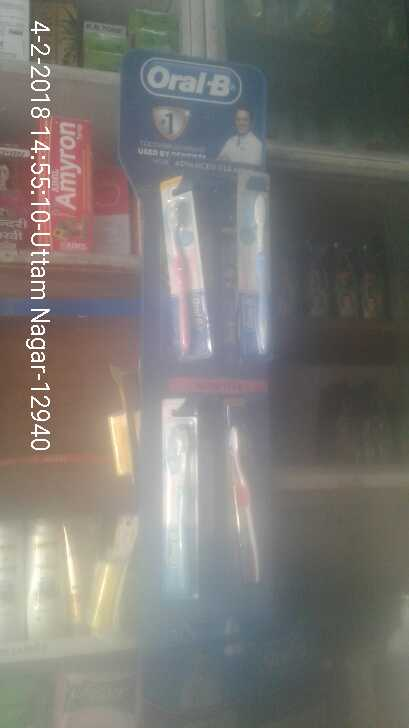oralb: (152, 181, 217, 365), (234, 177, 281, 354)
